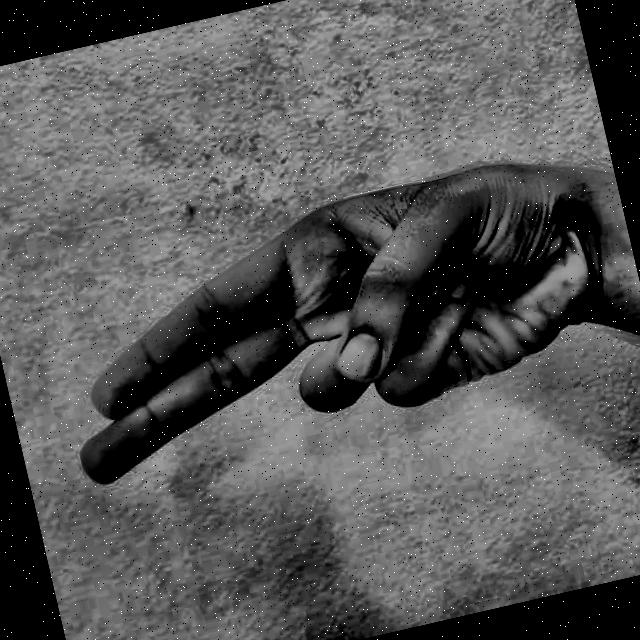Ha: (25, 115, 640, 633)
